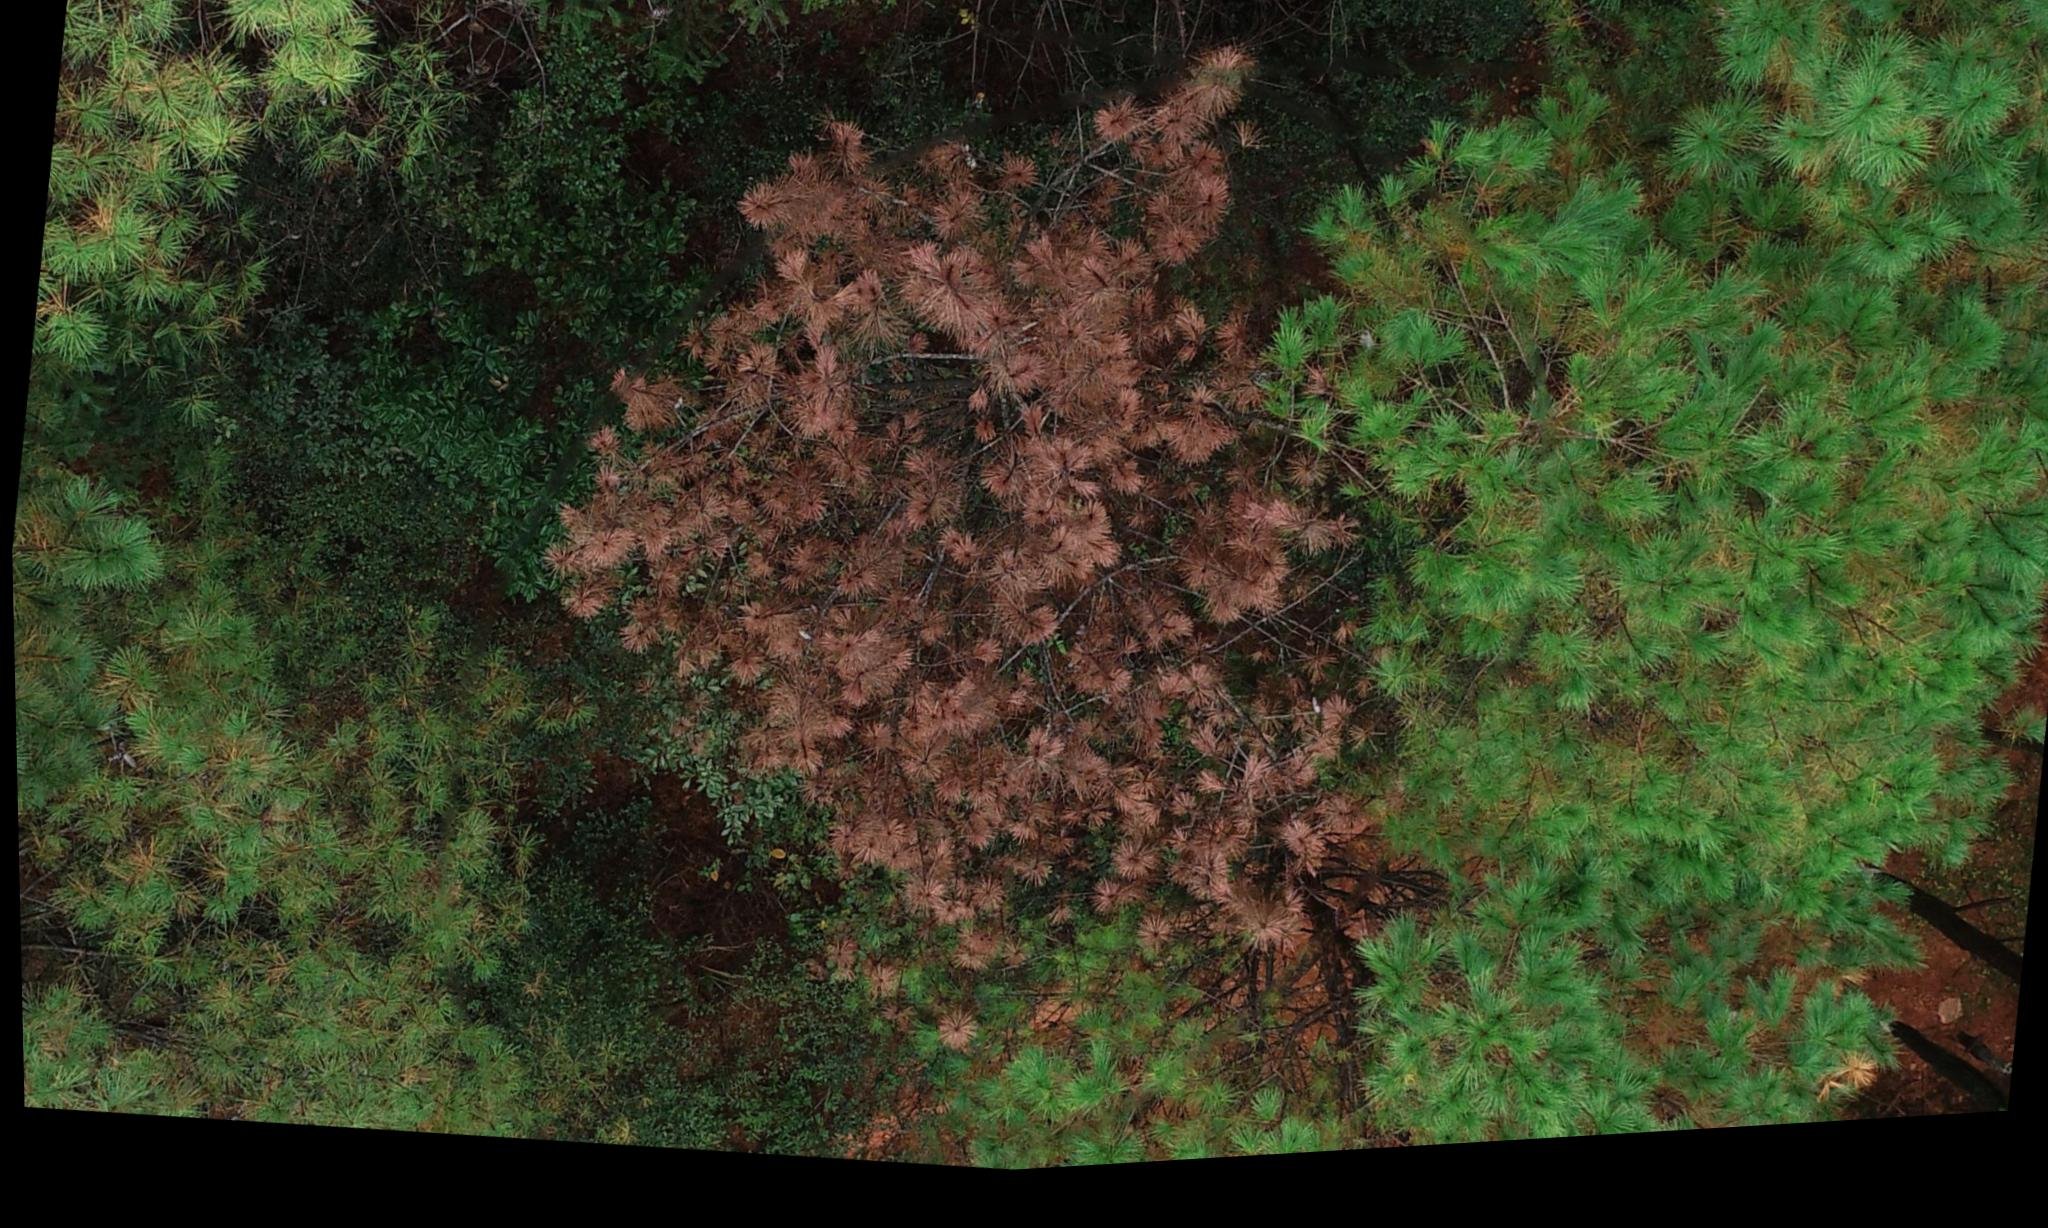heavy: (491, 0, 1405, 1041)
light: (10, 586, 516, 1156)
